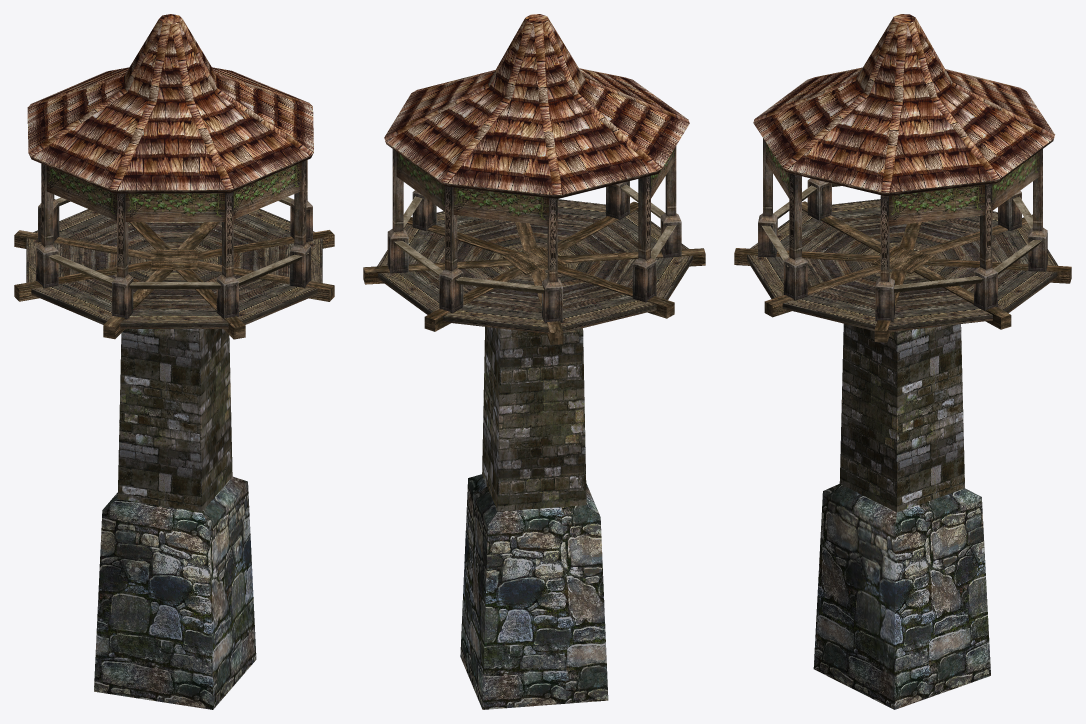
The model's file is loc2_08.glb.
The picture shows the model from 3 angles, left to right: view 1: azimuth 30°, elevation 25°; view 2: azimuth 150°, elevation 25°; view 3: azimuth 270°, elevation 25°; orthographic projection.
Parts seen in each view (by area): view 1: loc2_08-col; view 2: loc2_08-col; view 3: loc2_08-col.
Part boxes in pixels (x1,y1,x2,y2): loc2_08-col: [14, 14, 334, 709]; loc2_08-col: [363, 14, 705, 709]; loc2_08-col: [734, 14, 1071, 709].
Bounding box in the file's own units: 12.24 × 26.1 × 12.24.
Materials: 8 (8 with a texture image).
